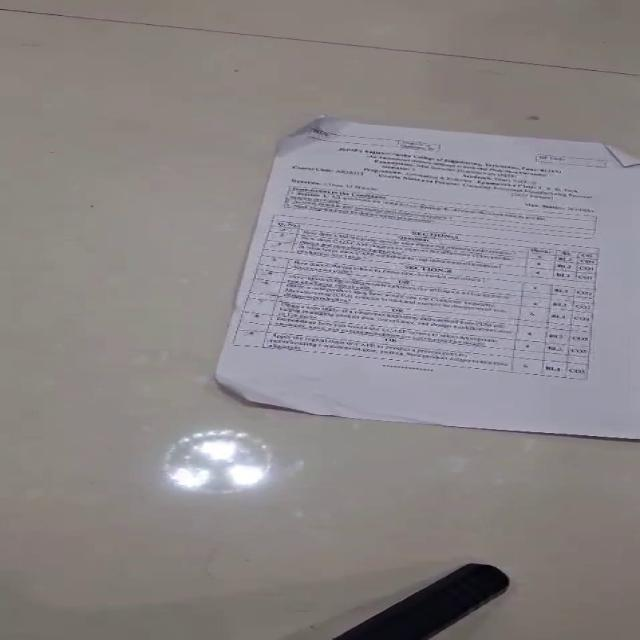paper: (213, 114, 639, 440)
